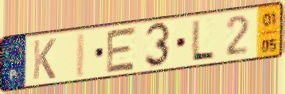2: (225, 14, 253, 58)
3: (141, 21, 175, 71)
E: (104, 25, 139, 76)
I: (74, 30, 88, 80)
K: (31, 37, 58, 82)
L: (189, 18, 217, 61)
